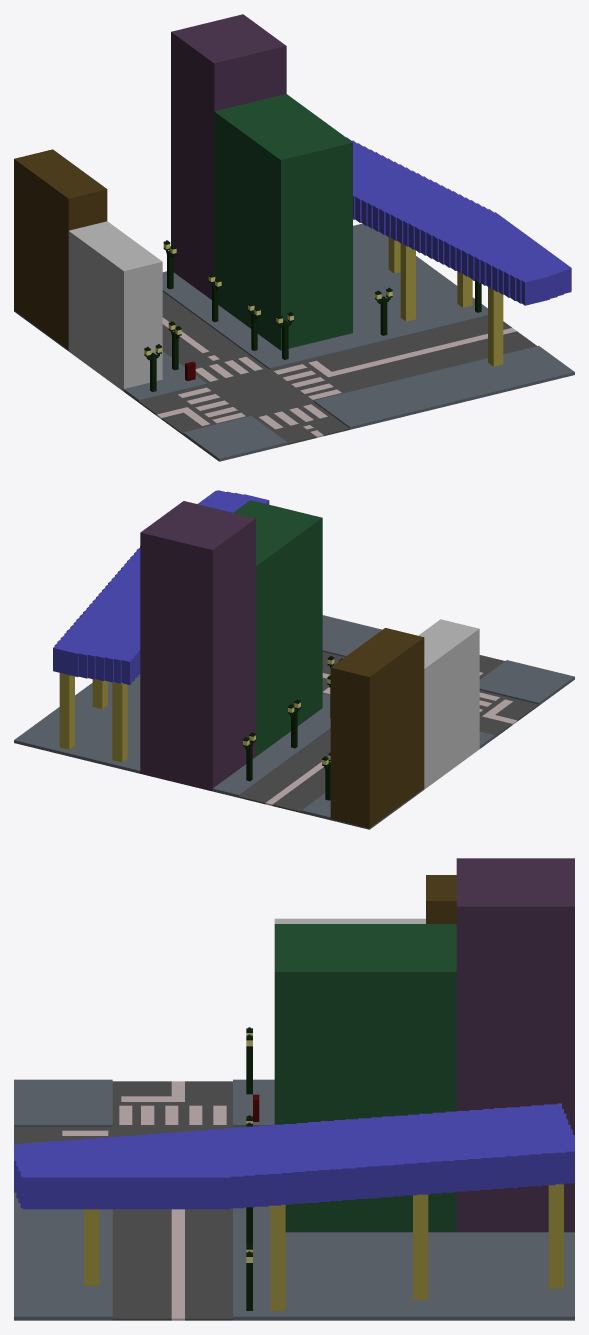
The model's file is BGTest2.obj.
The picture shows the model from 3 angles, top to bottom: view 1: azimuth 30°, elevation 25°; view 2: azimuth 150°, elevation 25°; view 3: azimuth 270°, elevation 25°; orthographic projection. The views are drawn at different scales.
Bounding box in the file's own units: 25.6 × 16.6 × 25.6.
1 material, 1 textured.
